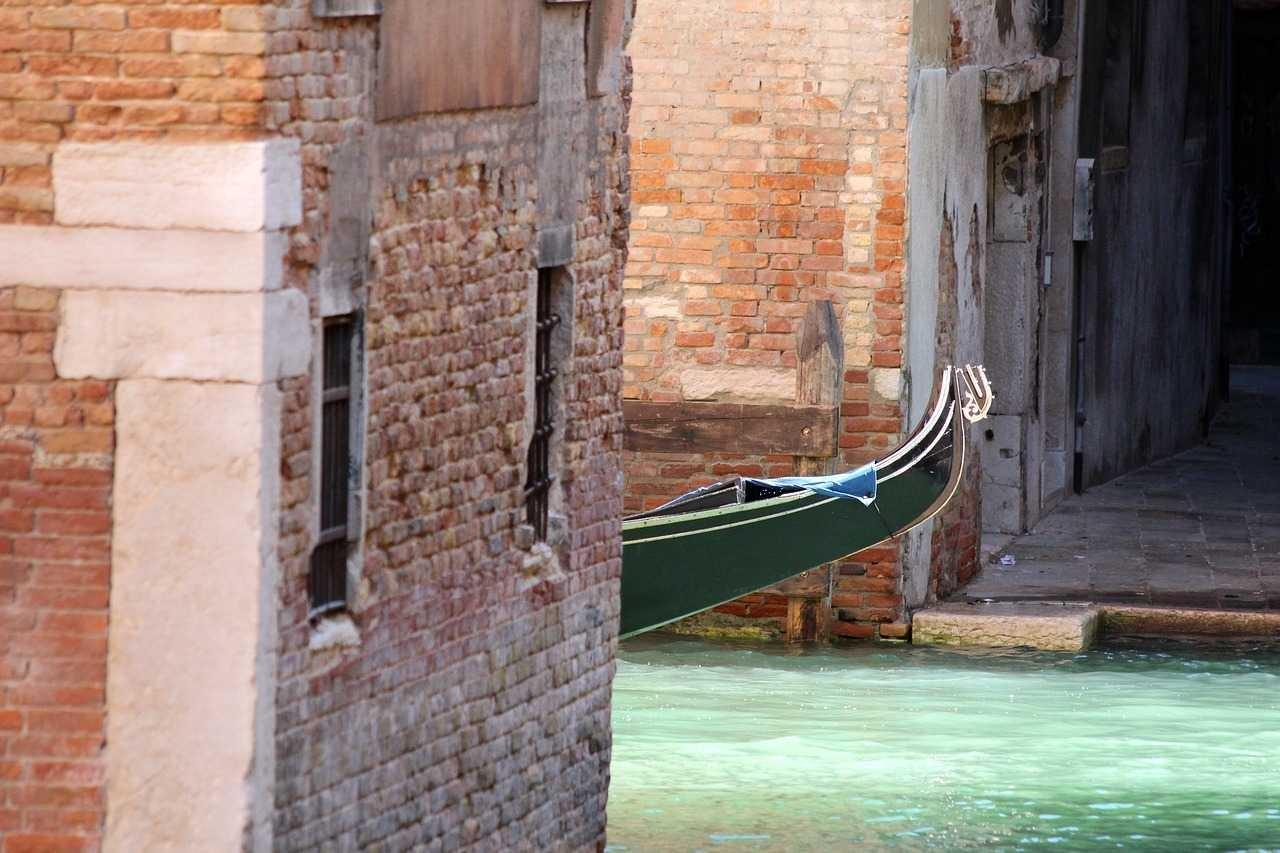kayak: (619, 362, 994, 641)
